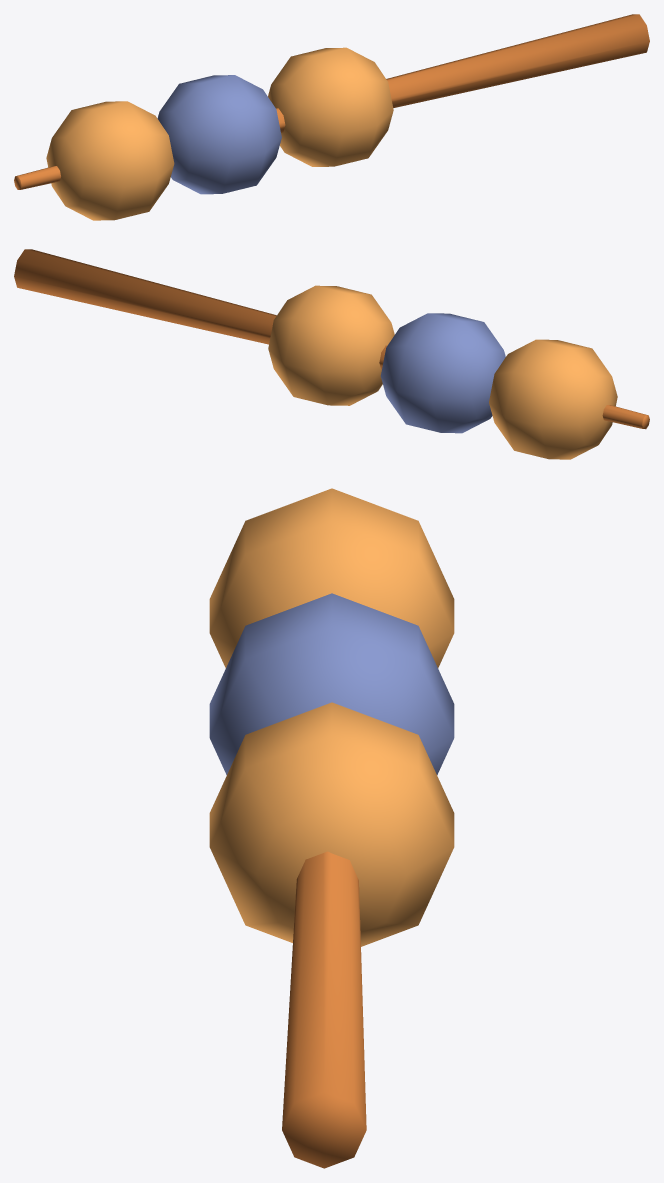
File: SM_Tankhulu.fbx
3 views of the same model, one above another, from view 1: azimuth 30°, elevation 25°; view 2: azimuth 150°, elevation 25°; view 3: azimuth 270°, elevation 25° (orthographic). The views are drawn at different scales.
Parts seen in each view (by area): view 1: SM_Tankhulu; view 2: SM_Tankhulu; view 3: SM_Tankhulu.
Part boxes in pixels (x1,y1,x2,y2): SM_Tankhulu: (14,14,649,220); SM_Tankhulu: (14,249,649,459); SM_Tankhulu: (209,488,454,1168).
Size of the model in its own units: 19.05 by 3.26 by 3.26.
1 material, 1 textured.
